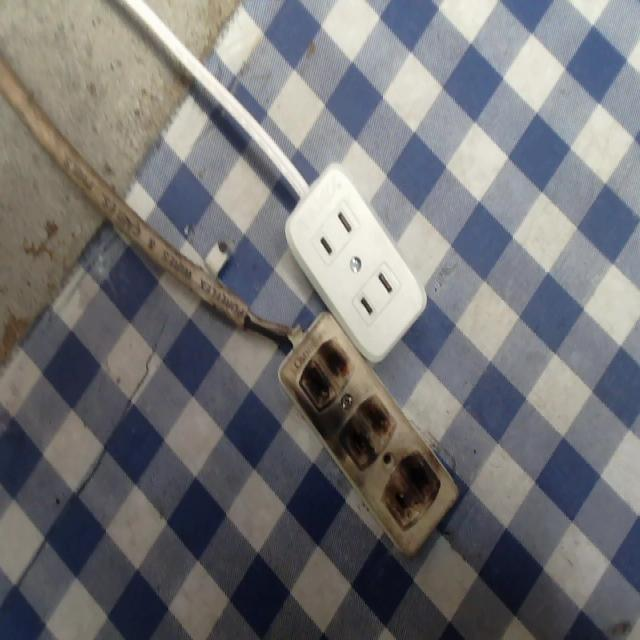-: (385, 448, 441, 528), (337, 392, 396, 464), (297, 338, 348, 402)
